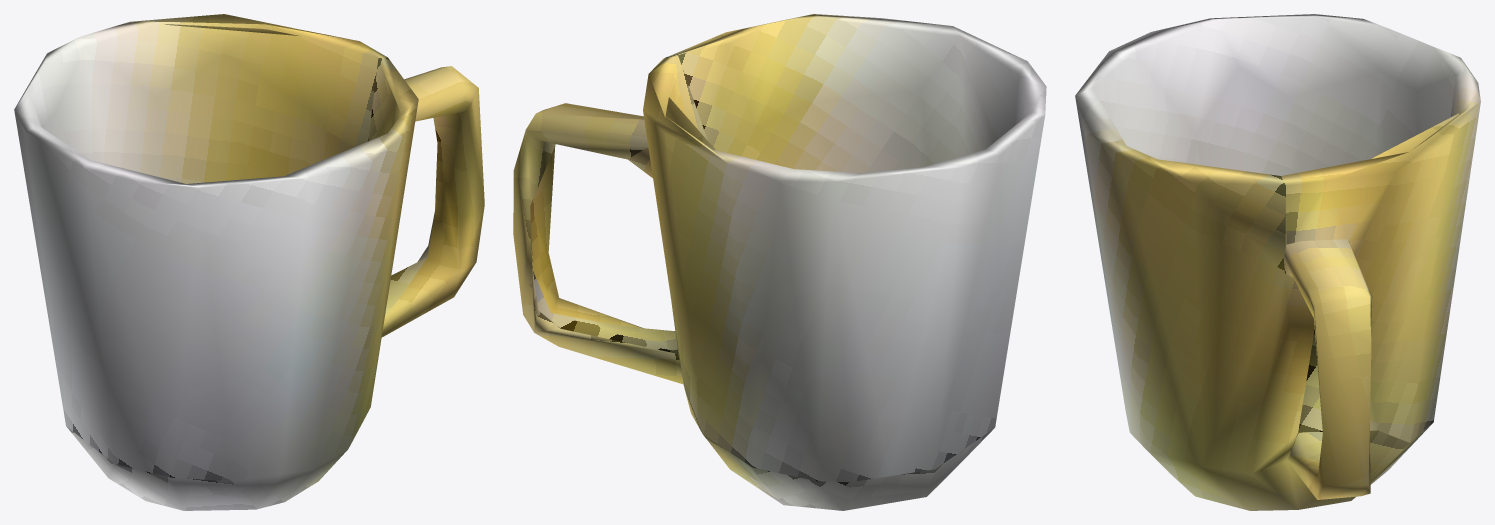
Rendered from Room_Essentials_Mug_White_Yellow-low.glb.
The picture shows the model from 3 angles, left to right: view 1: azimuth 30°, elevation 25°; view 2: azimuth 150°, elevation 25°; view 3: azimuth 270°, elevation 25°; orthographic projection.
Visible parts, largest first — view 1: Room_Essentials_Mug_White_Yellow; view 2: Room_Essentials_Mug_White_Yellow; view 3: Room_Essentials_Mug_White_Yellow.
Boxes of the visible parts, x1,y1,x2,y2 form: Room_Essentials_Mug_White_Yellow: (14, 14, 484, 510); Room_Essentials_Mug_White_Yellow: (513, 14, 1046, 510); Room_Essentials_Mug_White_Yellow: (1075, 14, 1480, 510).
Size of the model in its own units: 0.1356 by 0.1047 by 0.1017.
1 material, 1 textured.
